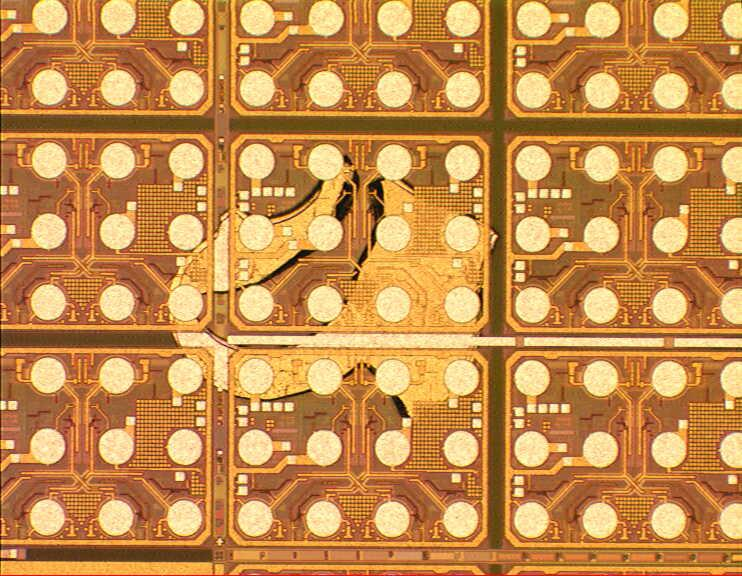BLOCK ETCH: (161, 144, 510, 429)
